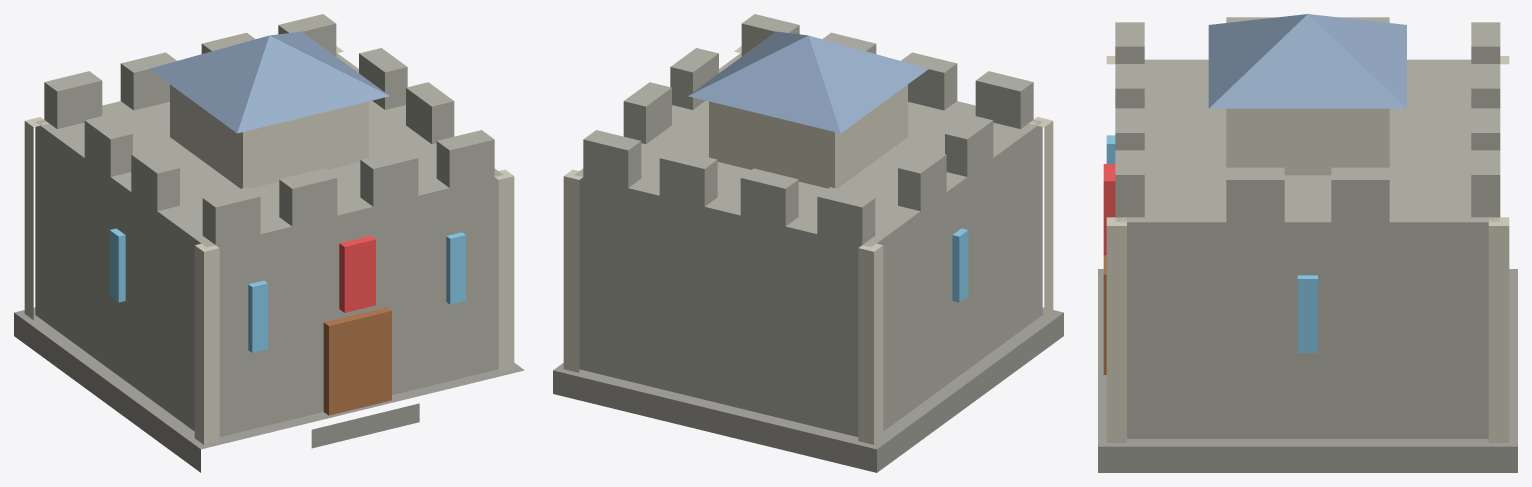
The model's file is house_t3_v2.glb.
3 renders of one model, left to right at view 1: azimuth 30°, elevation 25°; view 2: azimuth 150°, elevation 25°; view 3: azimuth 270°, elevation 25°, orthographic. The views are drawn at different scales.
Visible parts, largest first — view 1: house_t3_v2; view 2: house_t3_v2; view 3: house_t3_v2.
Part boxes in pixels (box(x1,y1,x2,y2)): house_t3_v2: box(14, 14, 524, 472); house_t3_v2: box(553, 14, 1063, 472); house_t3_v2: box(1098, 14, 1517, 472).
Bounding box in the file's own units: 0.72 × 0.7 × 0.73.
Materials: 1 (1 with a texture image).
